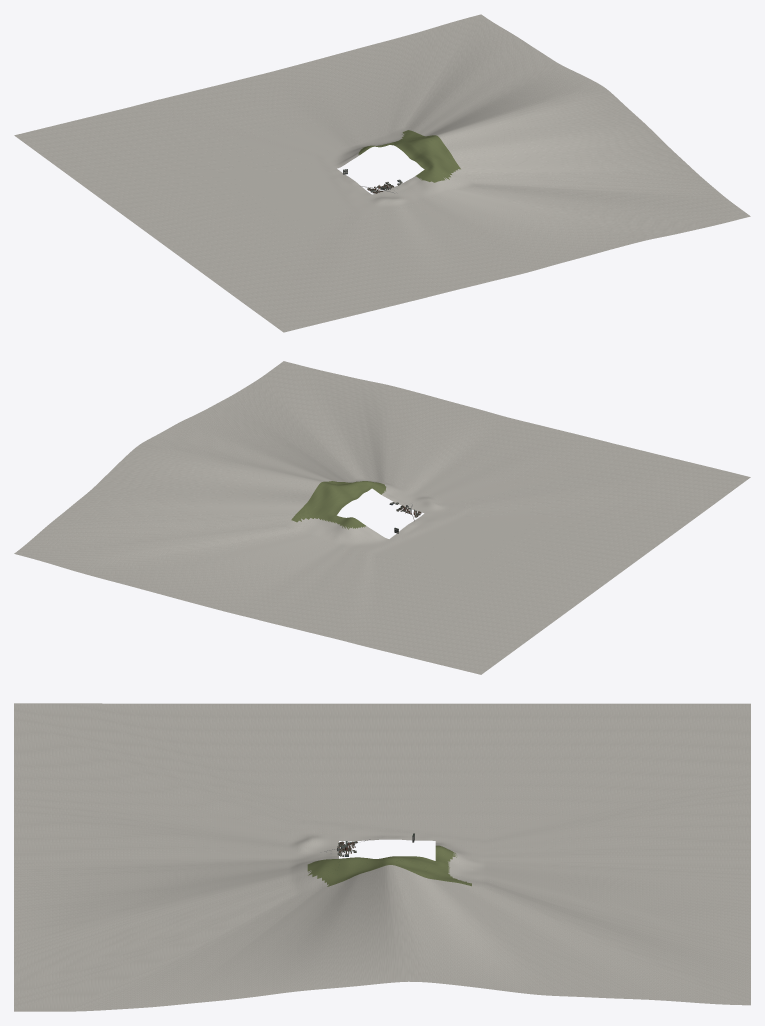
The picture shows the model from 3 angles, top to bottom: view 1: azimuth 30°, elevation 25°; view 2: azimuth 150°, elevation 25°; view 3: azimuth 270°, elevation 25°; orthographic projection. The views are drawn at different scales.
Parts seen in each view (by area): view 1: ctx-ground; view 2: ctx-ground; view 3: ctx-ground.
Boxes of the visible parts, box(x1,y1,x2,y2) form: ctx-ground: box(14, 14, 750, 332); ctx-ground: box(14, 361, 750, 674); ctx-ground: box(14, 703, 750, 1011).
Size of the model in its own units: 7600 by 380 by 7600.
14 materials, 13 textured.
